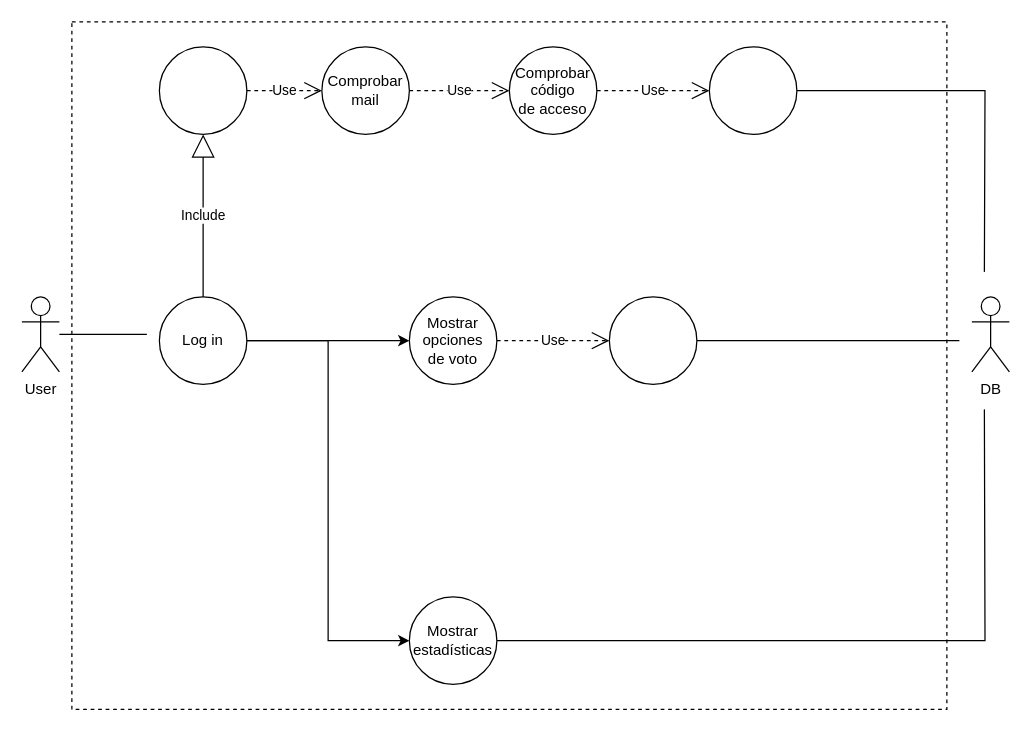
Some shapes in this 1031 by 731 pixel diagram are drawn without their labels. The centre of each missing label's shape, as x and y in pixels:
"Cifrar datos" goes at (752,90).
"Crear usuario" goes at (202,90).
"Elegir voto" goes at (652,340).
